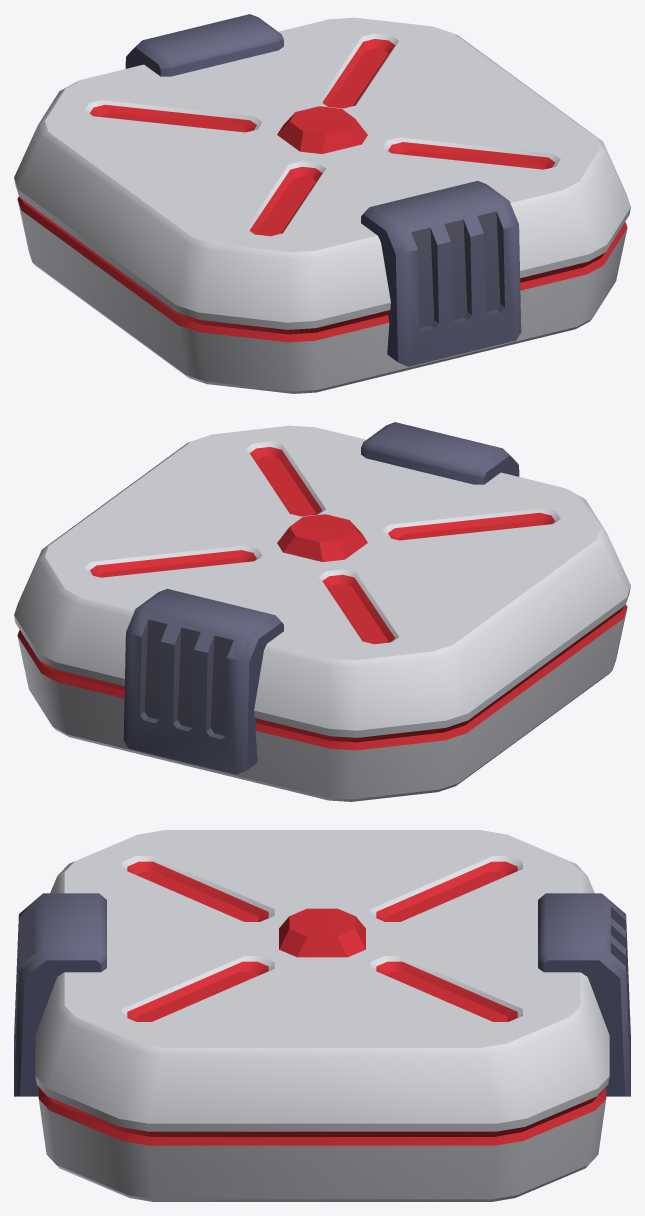
File: MedKit A.fbx
3 renders of one model, top to bottom at view 1: azimuth 30°, elevation 25°; view 2: azimuth 150°, elevation 25°; view 3: azimuth 270°, elevation 25°, orthographic. The views are drawn at different scales.
Visible parts, largest first — view 1: Med Kit A; view 2: Med Kit A; view 3: Med Kit A.
Part boxes in pixels (box(x1,y1,x2,y2)): Med Kit A: box(14, 14, 630, 393); Med Kit A: box(14, 422, 630, 801); Med Kit A: box(14, 830, 630, 1201).
Bounding box in the file's own units: 0.5942 × 0.19 × 0.6384.
